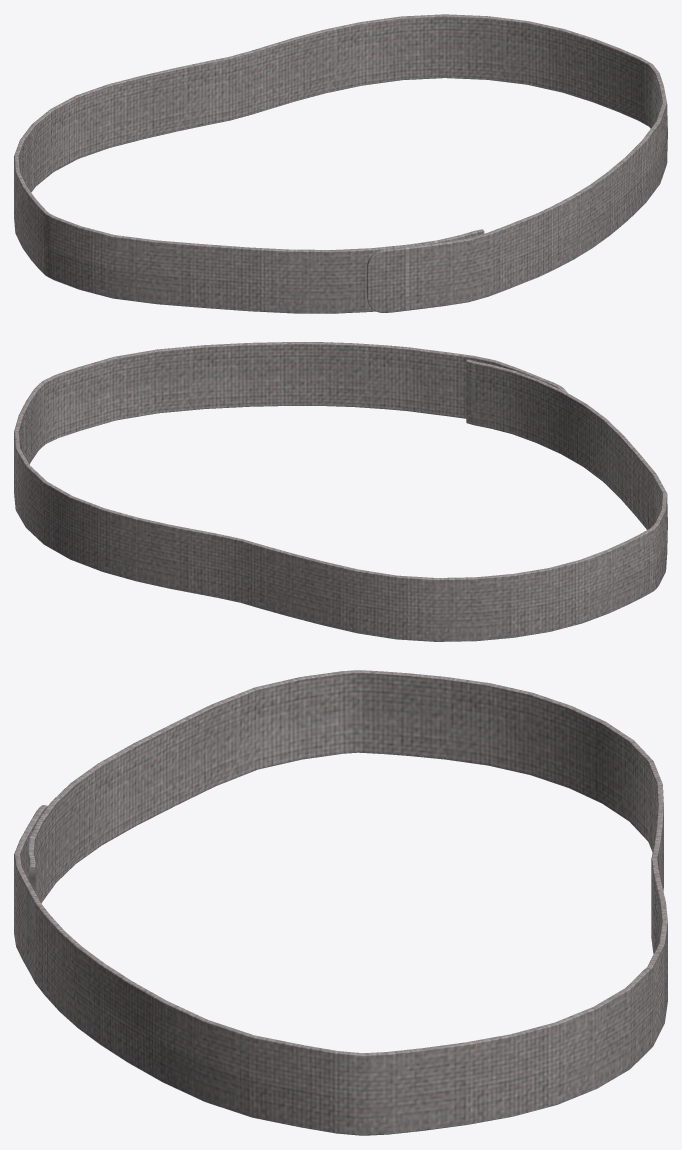
The model's file is 4cm standard_button update.glb.
3 renders of one model, top to bottom at view 1: azimuth 30°, elevation 25°; view 2: azimuth 150°, elevation 25°; view 3: azimuth 270°, elevation 25°, orthographic. The views are drawn at different scales.
Parts seen in each view (by area): view 1: standard_button_4cm; view 2: standard_button_4cm; view 3: standard_button_4cm.
Boxes of the visible parts, x1=… form: standard_button_4cm: x1=14, y1=14, x2=667, y2=313; standard_button_4cm: x1=14, y1=342, x2=667, y2=641; standard_button_4cm: x1=14, y1=670, x2=667, y2=1135.
Bounding box in the file's own units: 0.047 × 0.0046 × 0.0336.
1 material, 1 textured.
